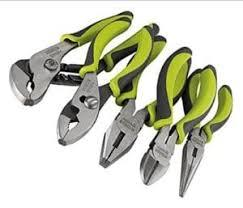pliers: (54, 16, 152, 145), (7, 24, 91, 105), (97, 85, 156, 167), (138, 105, 186, 186), (177, 117, 222, 197)
